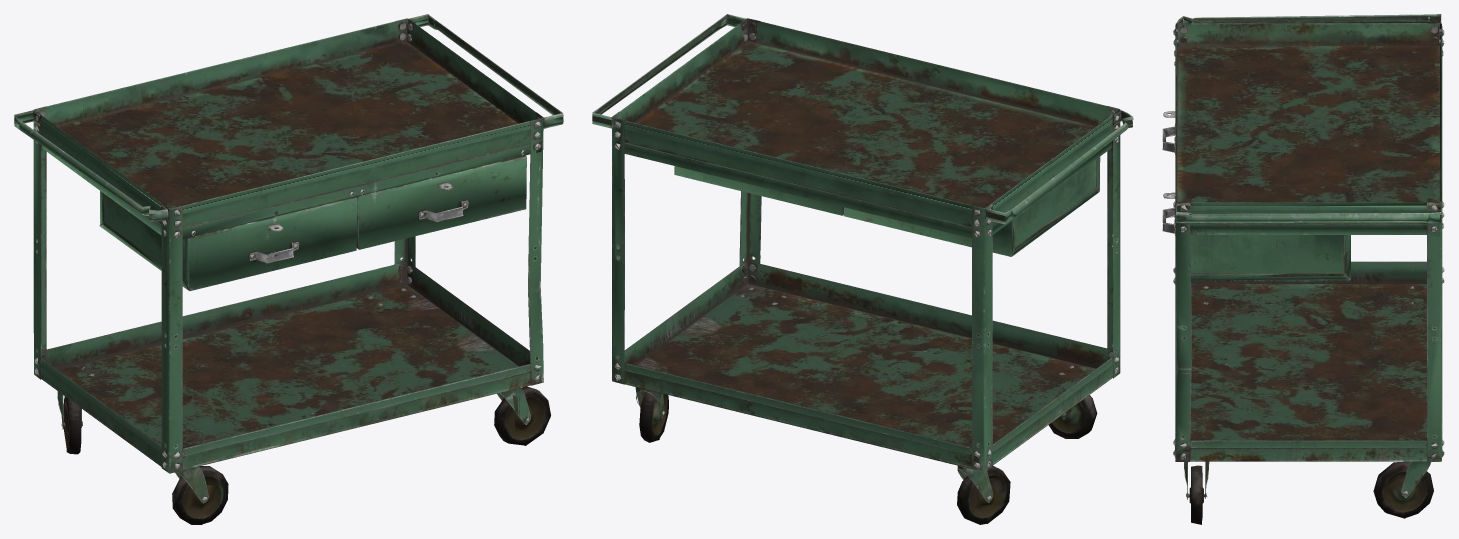
File: medical-trolley.glb
3 renders of one model, left to right at view 1: azimuth 30°, elevation 25°; view 2: azimuth 150°, elevation 25°; view 3: azimuth 270°, elevation 25°, orthographic. The views are drawn at different scales.
Parts seen in each view (by area): view 1: medical-trolley; view 2: medical-trolley; view 3: medical-trolley.
Boxes of the visible parts, bbox=[...] form: medical-trolley: bbox=[14, 14, 563, 524]; medical-trolley: bbox=[592, 14, 1133, 524]; medical-trolley: bbox=[1162, 14, 1444, 524].
Size of the model in its own units: 1.28 by 0.9647 by 0.7548.
1 material, 1 textured.
